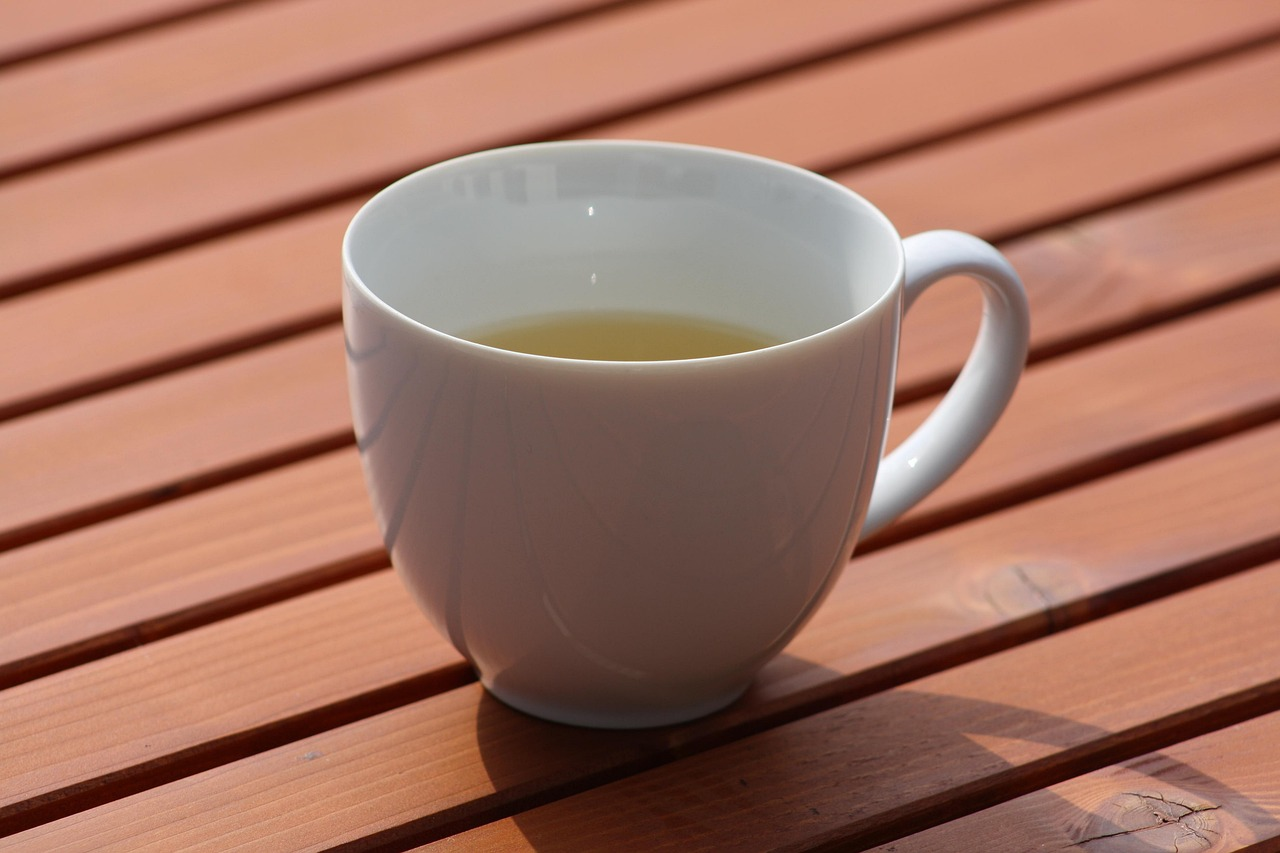mug: (300, 128, 1081, 728)
